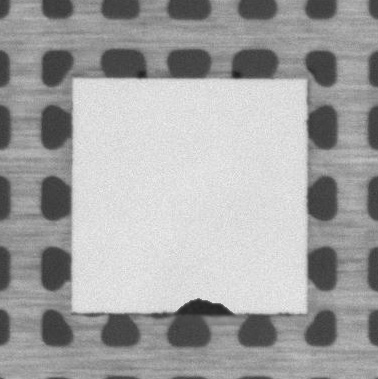DIE_BROKEN: (172, 297, 235, 318)
